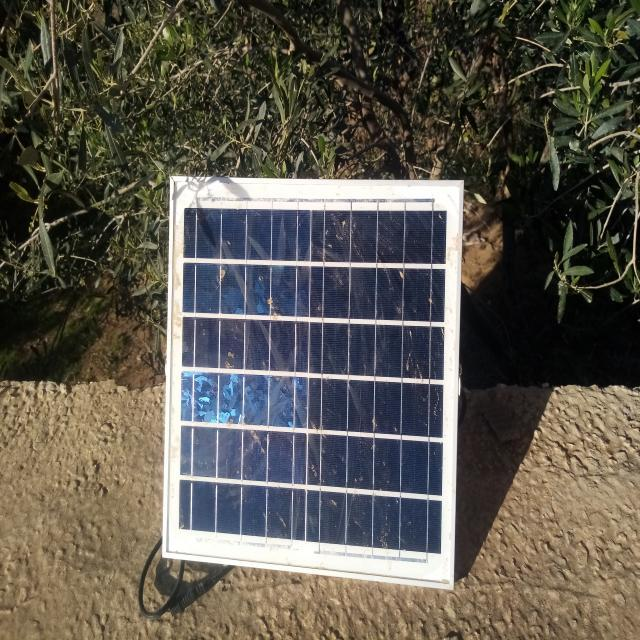faulty: (164, 178, 462, 587)
